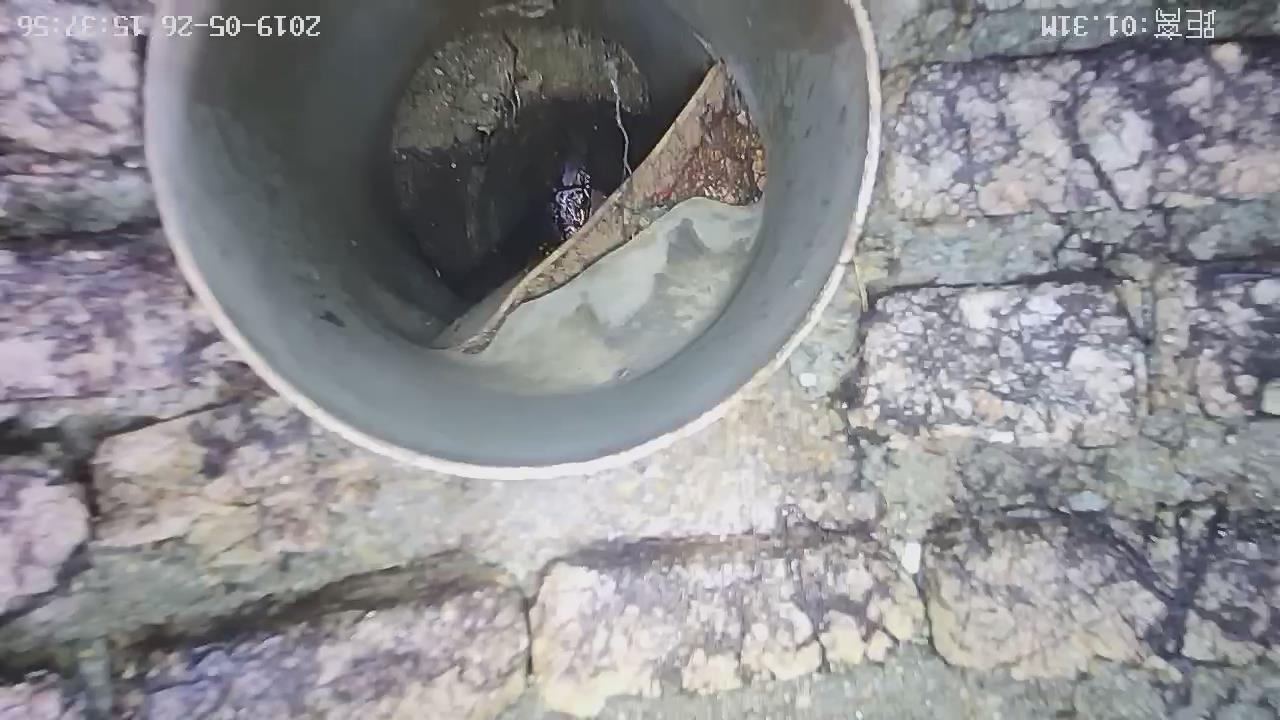PL: (384, 53, 779, 350)
